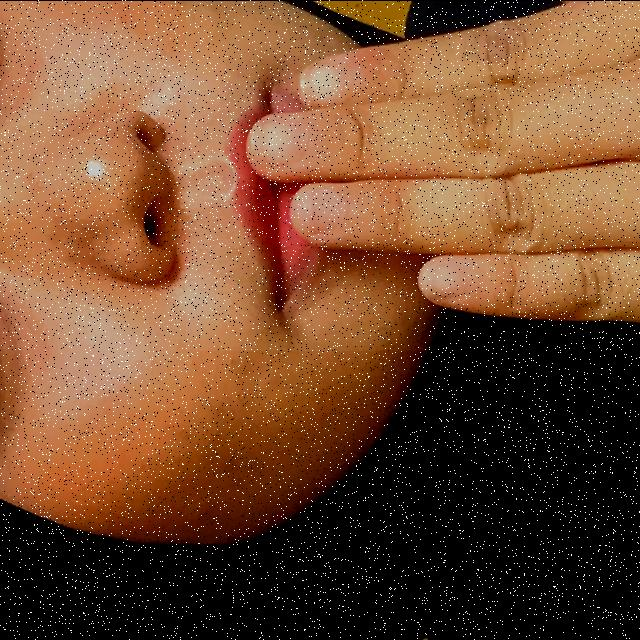ganteng: (186, 0, 640, 350)
